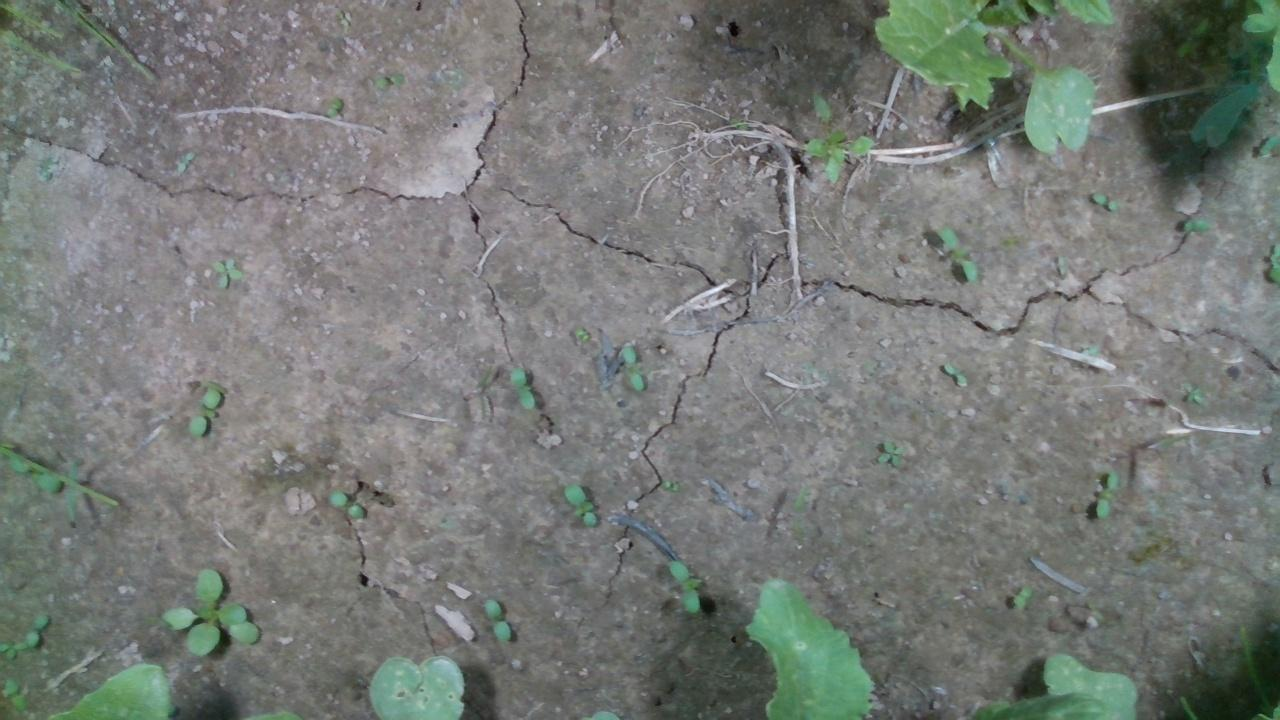weed: (930, 221, 978, 283), (665, 558, 703, 615), (562, 480, 598, 529), (188, 387, 221, 436), (480, 597, 511, 643), (326, 487, 367, 520), (1093, 466, 1118, 520), (508, 366, 535, 412), (209, 254, 243, 290), (619, 344, 644, 391), (874, 438, 904, 466), (940, 361, 968, 385), (1089, 189, 1120, 210), (371, 71, 405, 90), (1178, 217, 1210, 233), (1182, 383, 1204, 405), (1012, 583, 1031, 608), (325, 95, 343, 117), (660, 476, 680, 492)
